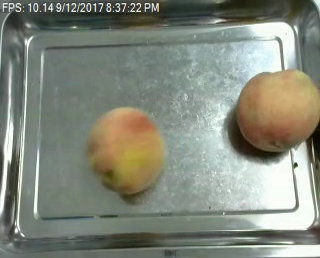Peach: (87, 104, 164, 196), (236, 68, 319, 152)
